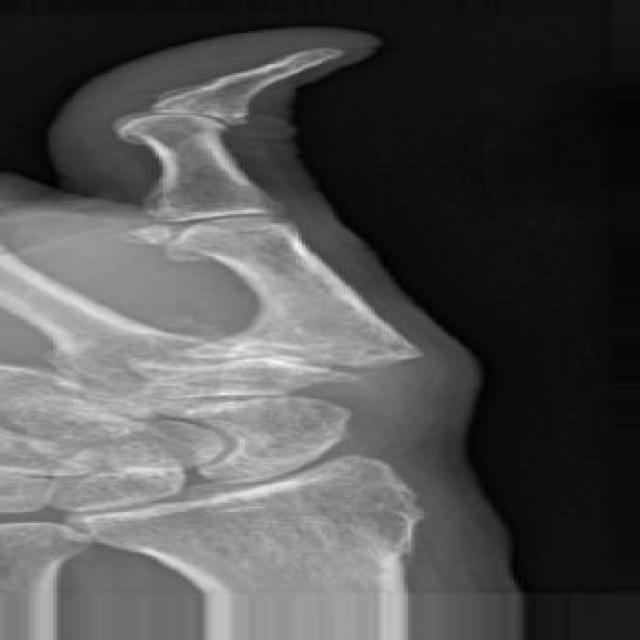Fracture: (91, 97, 185, 145)
